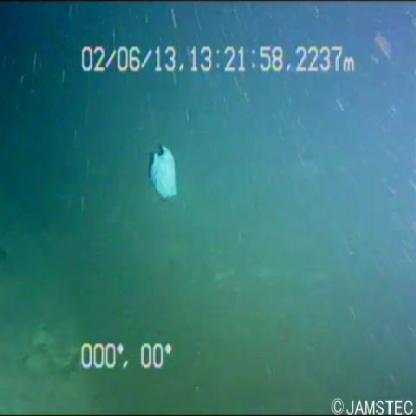Rác: (142, 138, 186, 197)
